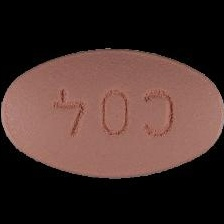68084-513: (0, 0, 224, 224)
